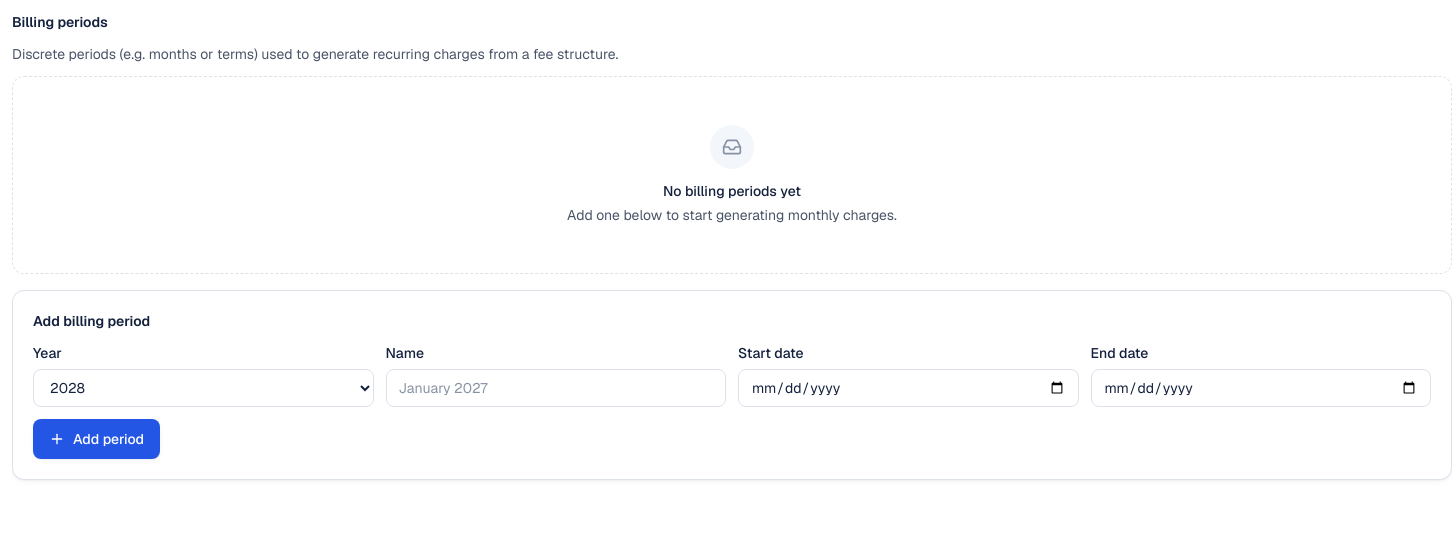
Scenario: BillingPeriodsTab — create billing period (mutation) › shows a generic fallback message for a non-ApiError creation failure
Expected: the heading "Add billing period" is shown, [33,312,150,330]
Type "January" into the field with placeholder "January 2027" at point(556, 388), box [386,369,726,407]
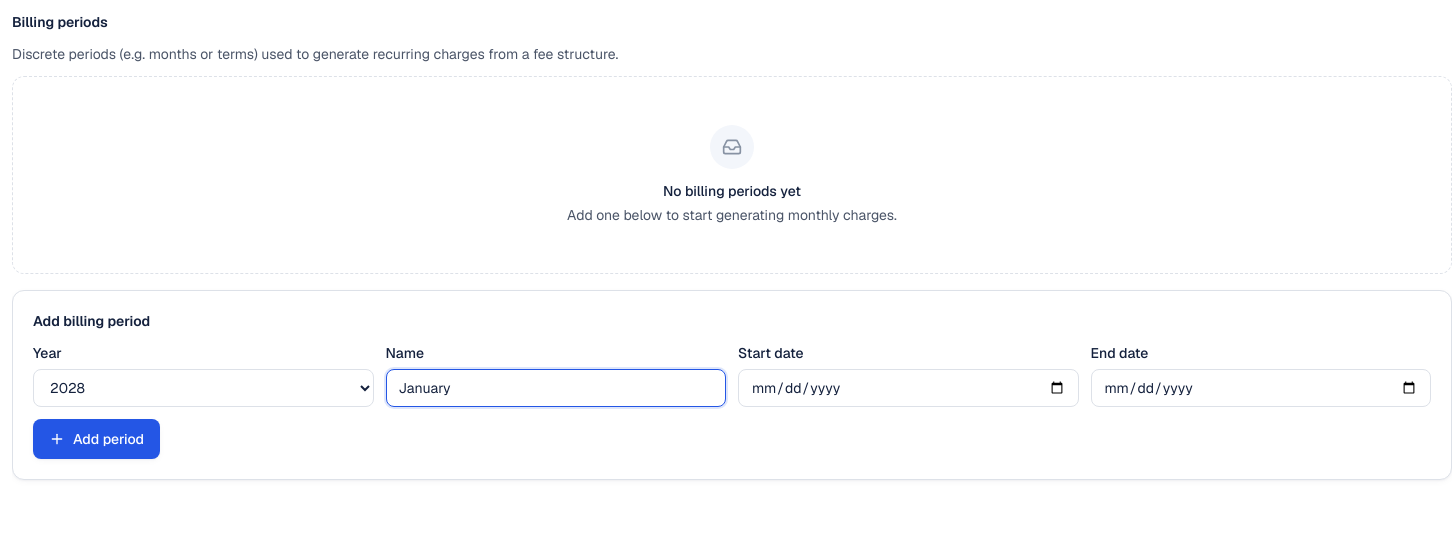
Type "2028-01-01" into the date field below "Start date" at point(908, 388), box [738,369,1078,407]
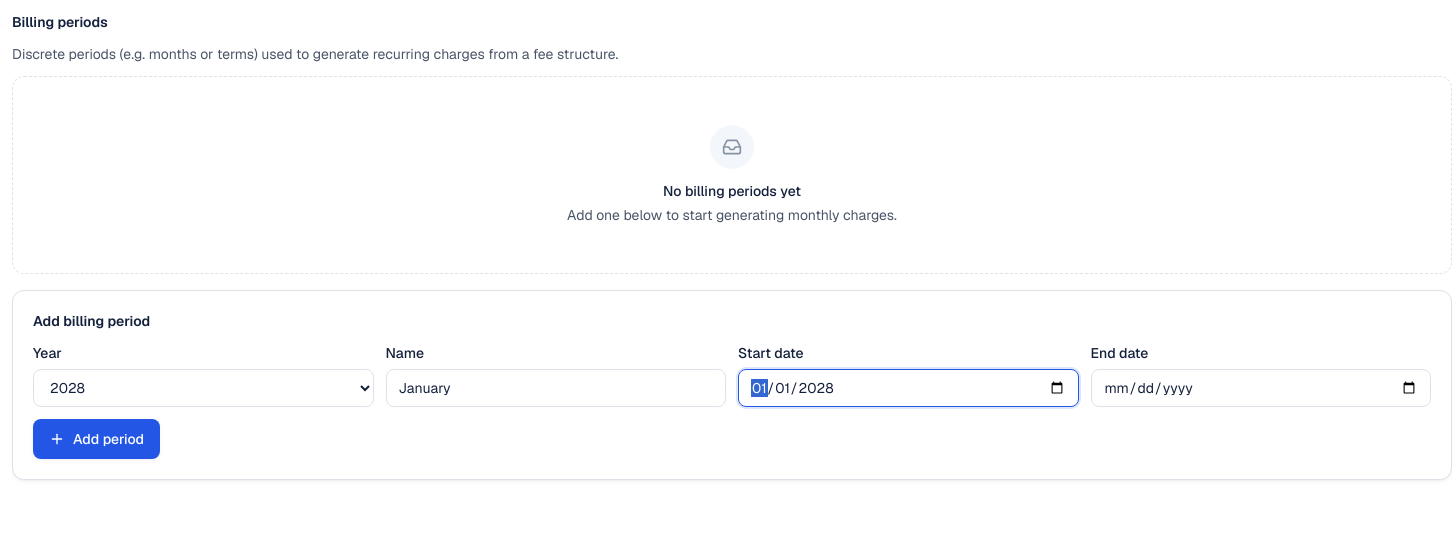
Type "2028-01-31" into the date field below "End date" at point(1261, 388), box [1090,369,1431,407]
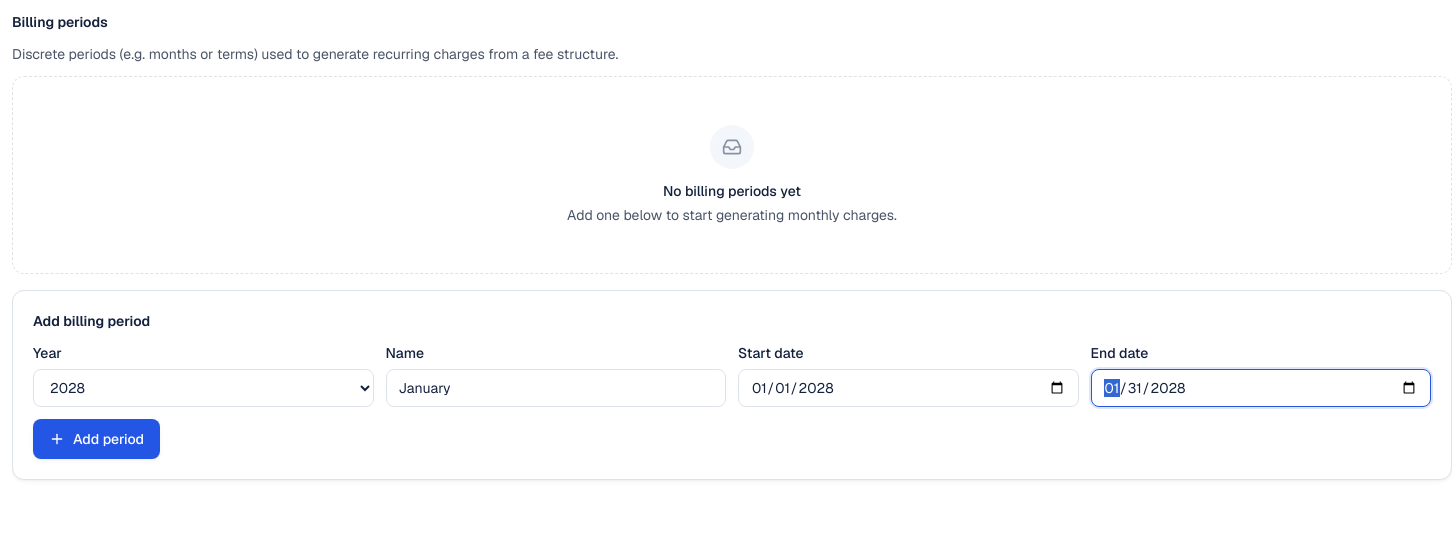
Click the button "Add period" at point(97, 439), box [33,419,160,459]
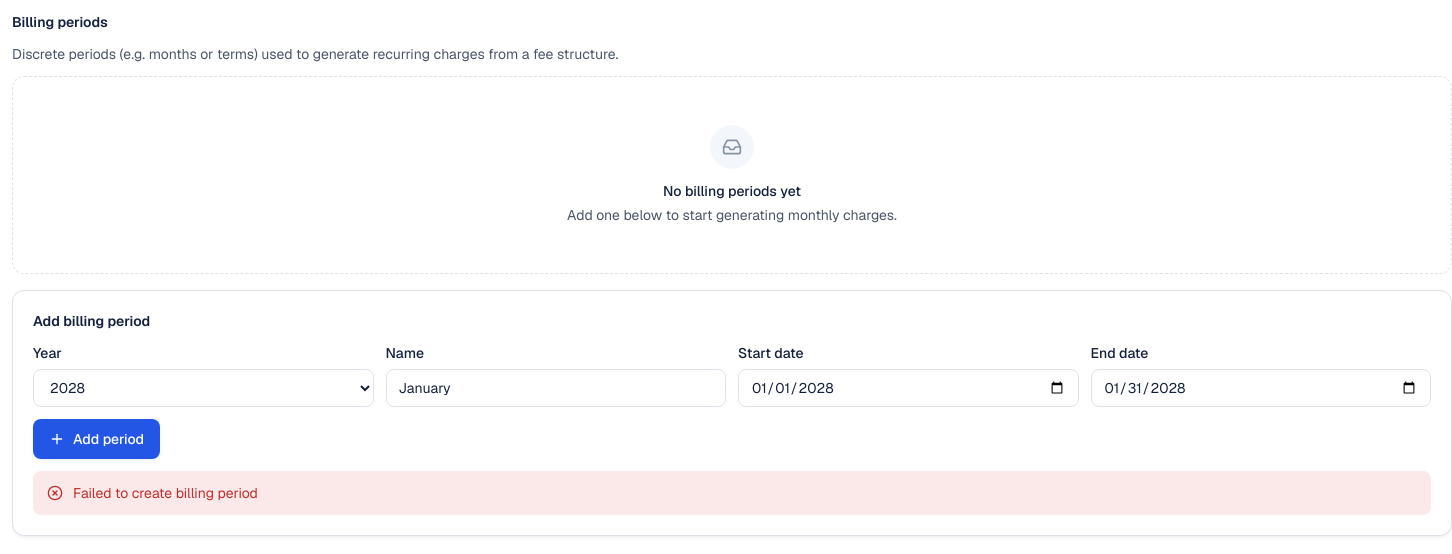
Expected: the text "Failed to create billing period" is shown, [73,483,258,503]
